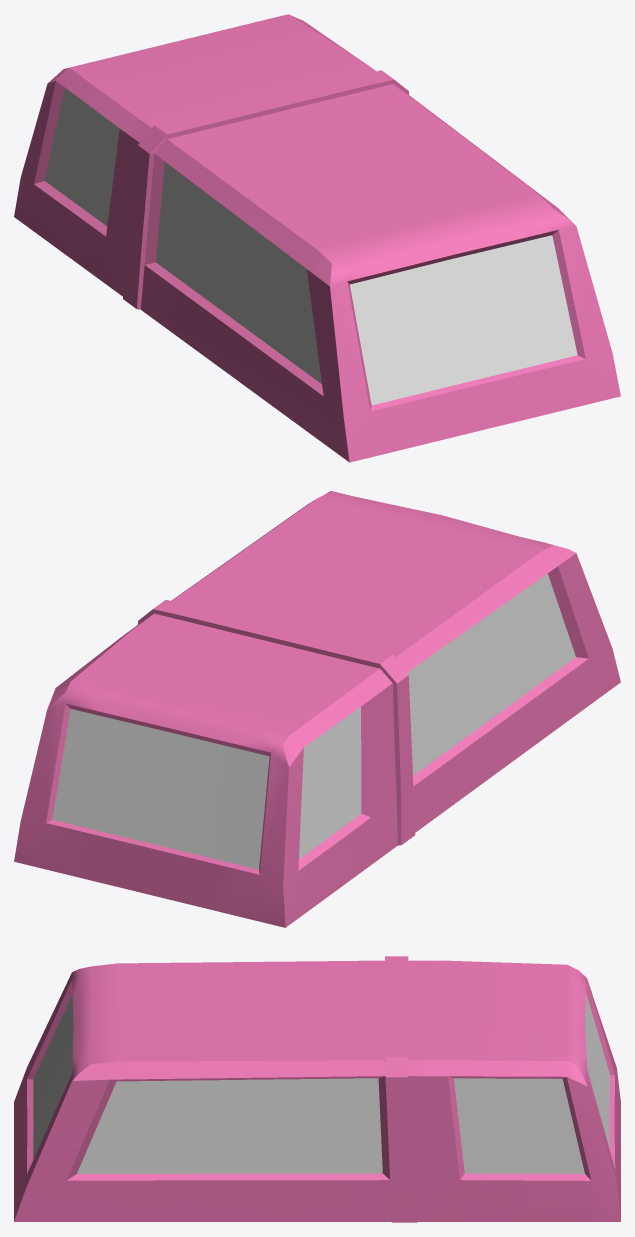
The model's file is ROUND-TOP-I9She-rx.glb.
3 renders of one model, top to bottom at view 1: azimuth 30°, elevation 25°; view 2: azimuth 150°, elevation 25°; view 3: azimuth 270°, elevation 25°, orthographic. The views are drawn at different scales.
Size of the model in its own units: 1.54 by 0.9101 by 3.21.
Materials: 1 (1 with a texture image).
